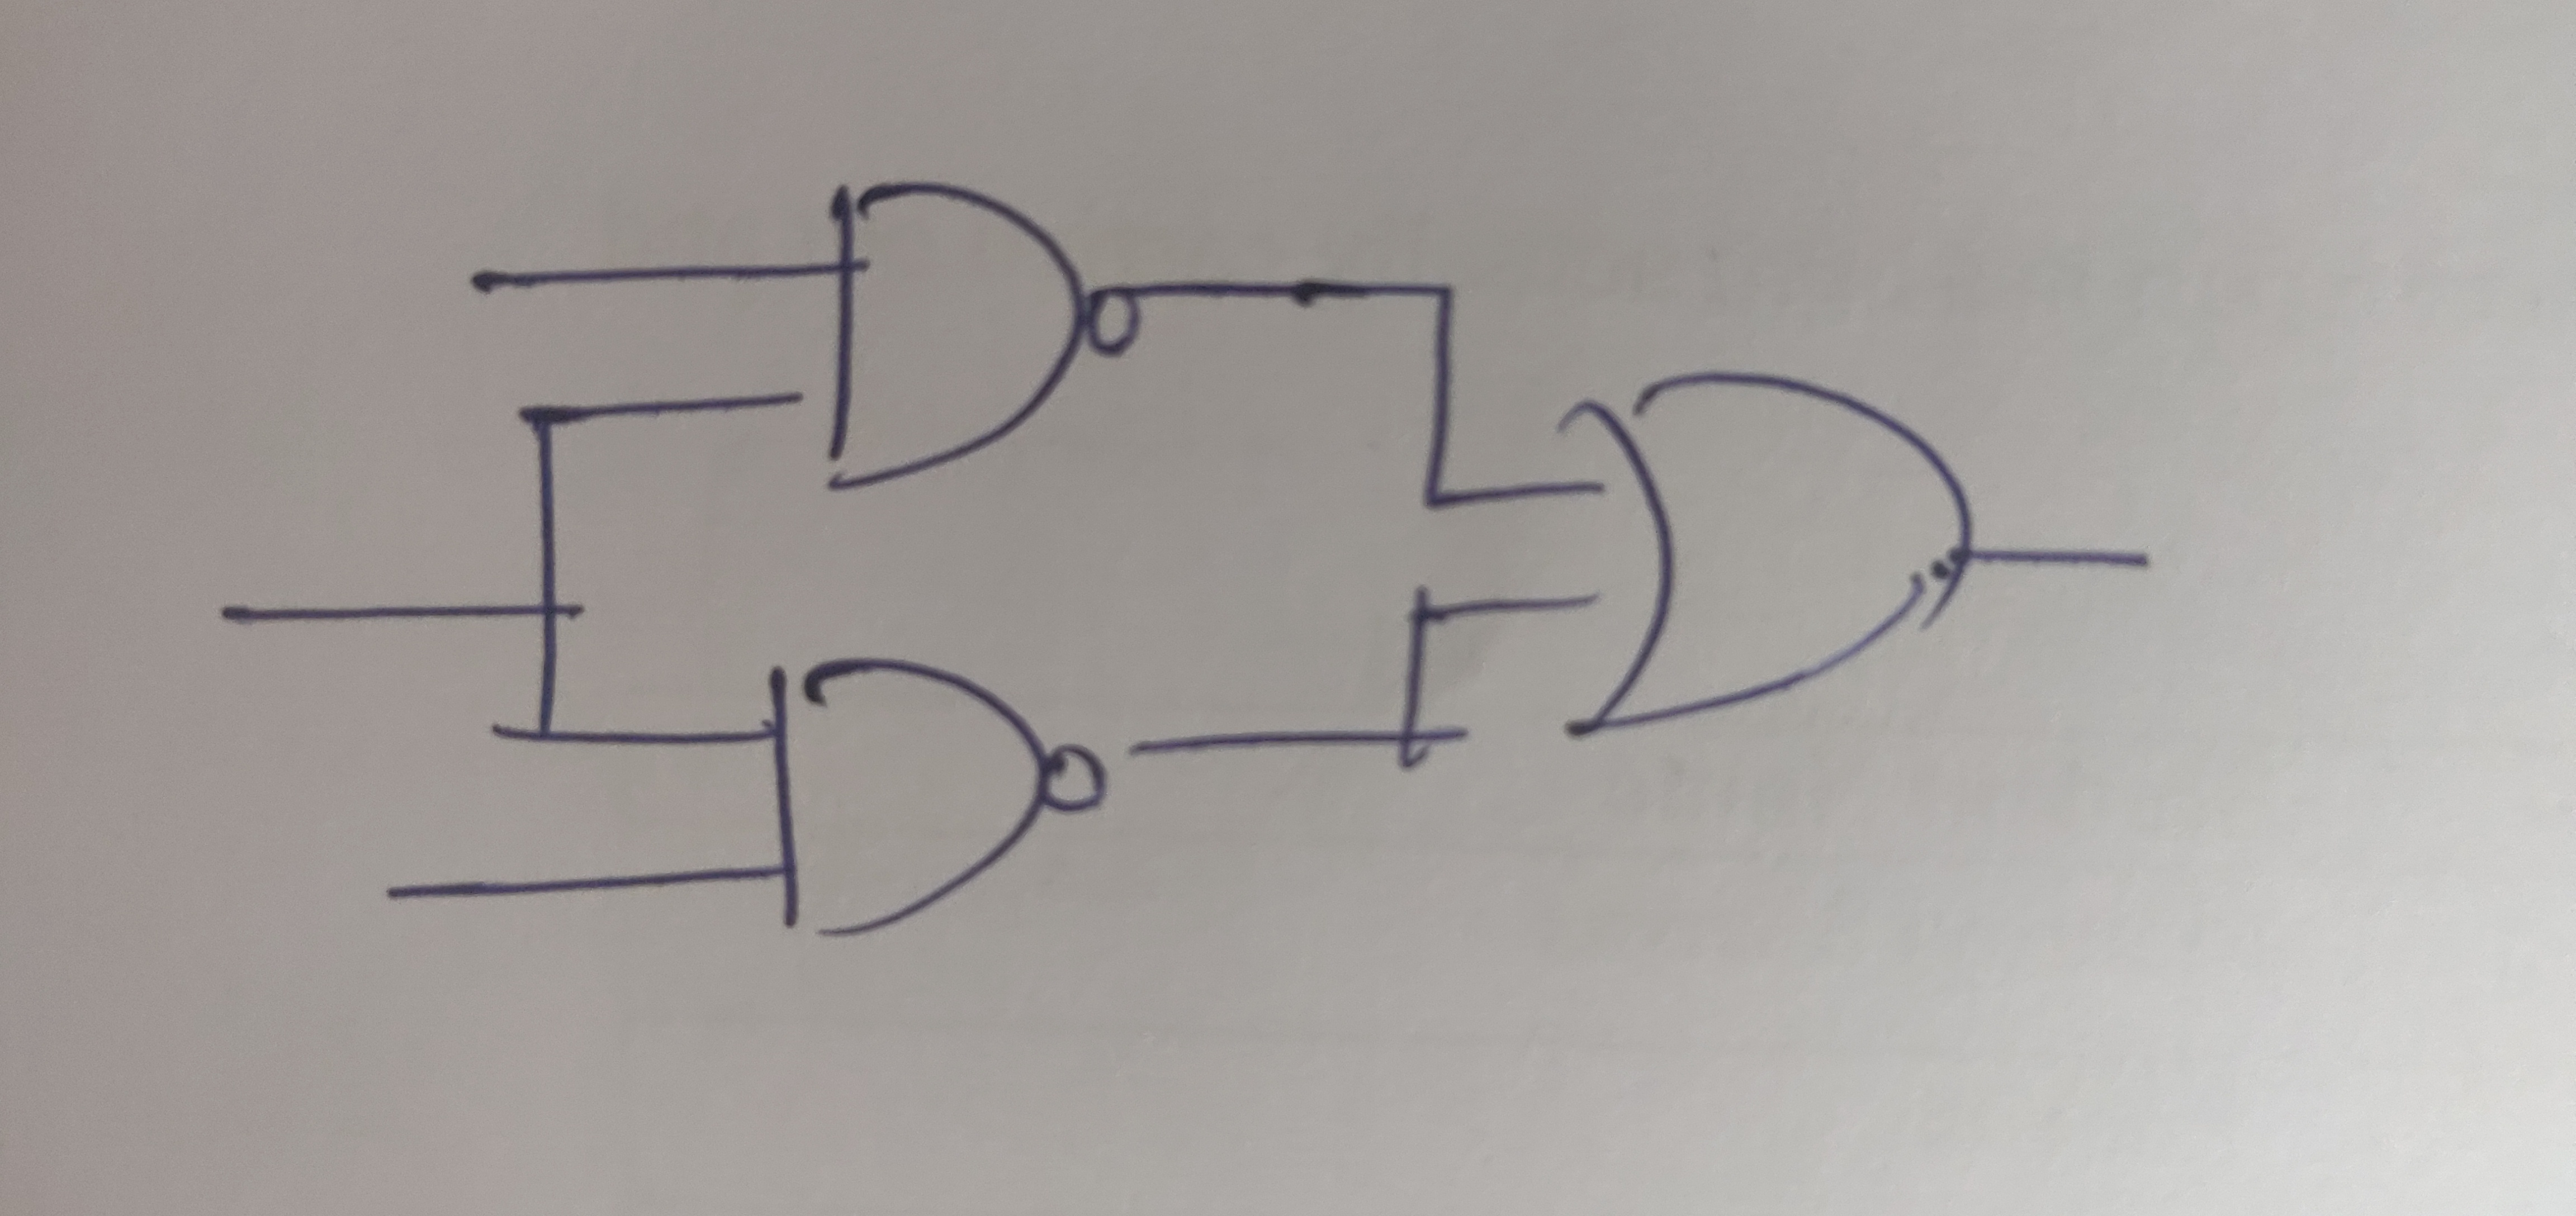nand: (726, 615, 1180, 989), (787, 138, 1199, 546)
or: (1511, 332, 2050, 782)
